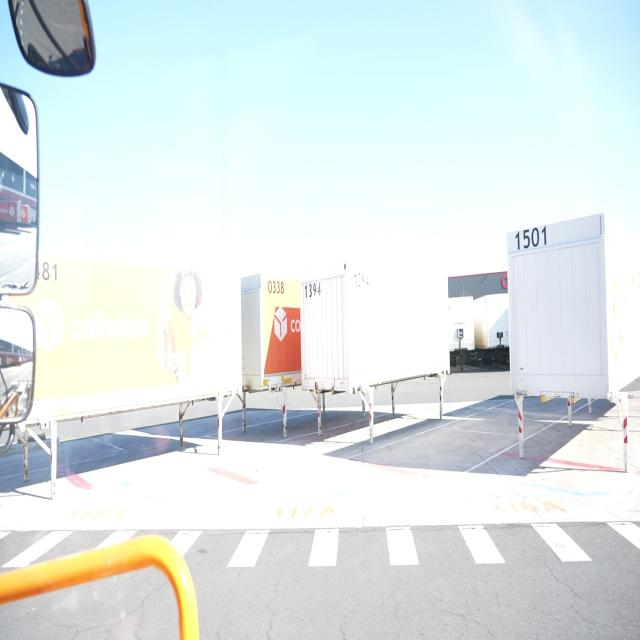Code: (516, 226, 552, 248), (265, 275, 284, 301), (302, 282, 324, 300)
